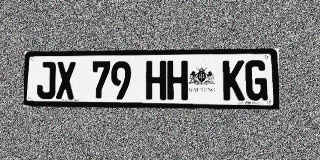7: (91, 61, 111, 99)
9: (111, 61, 131, 100)
G: (245, 60, 268, 101)
H: (167, 61, 188, 100), (146, 61, 166, 100)
J: (36, 62, 56, 99)
K: (223, 60, 245, 100)
X: (56, 61, 76, 99)
